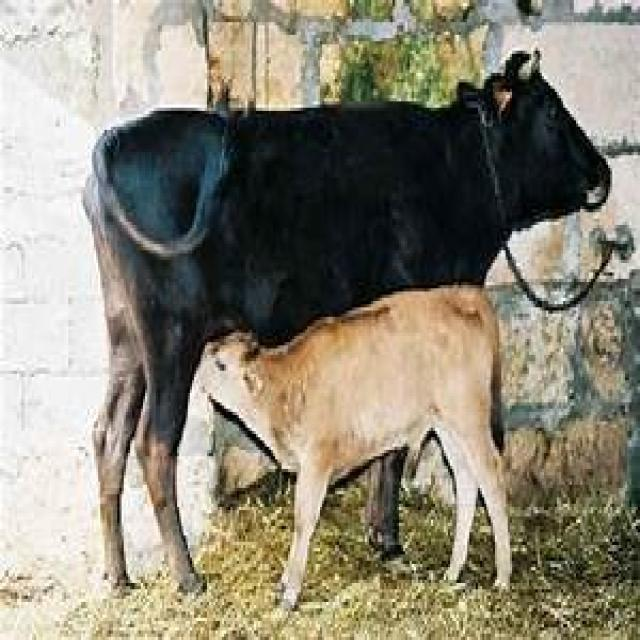animal: (81, 47, 612, 599), (198, 282, 512, 611)
